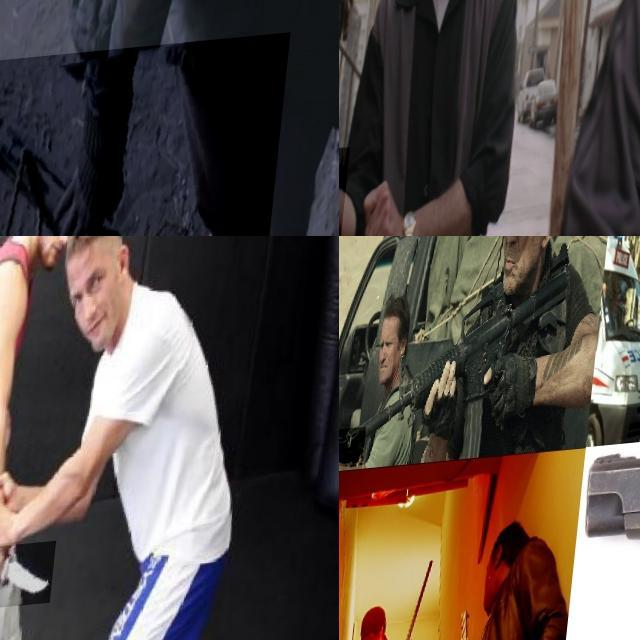-: (0, 548, 64, 616)
gun-knife-thesis - v11 Yolov5 augmented: (0, 41, 293, 236), (348, 261, 580, 471), (339, 149, 377, 236), (339, 428, 375, 476), (447, 612, 490, 640)
